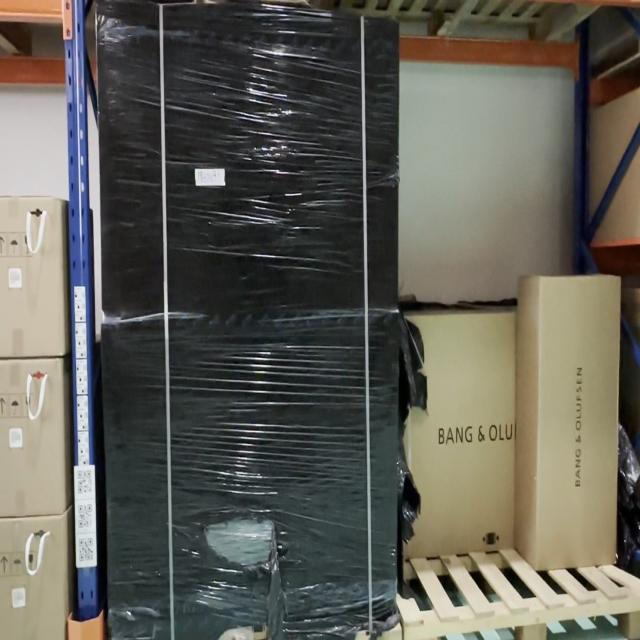box: (105, 309, 404, 640), (100, 0, 401, 311), (537, 280, 621, 573)
